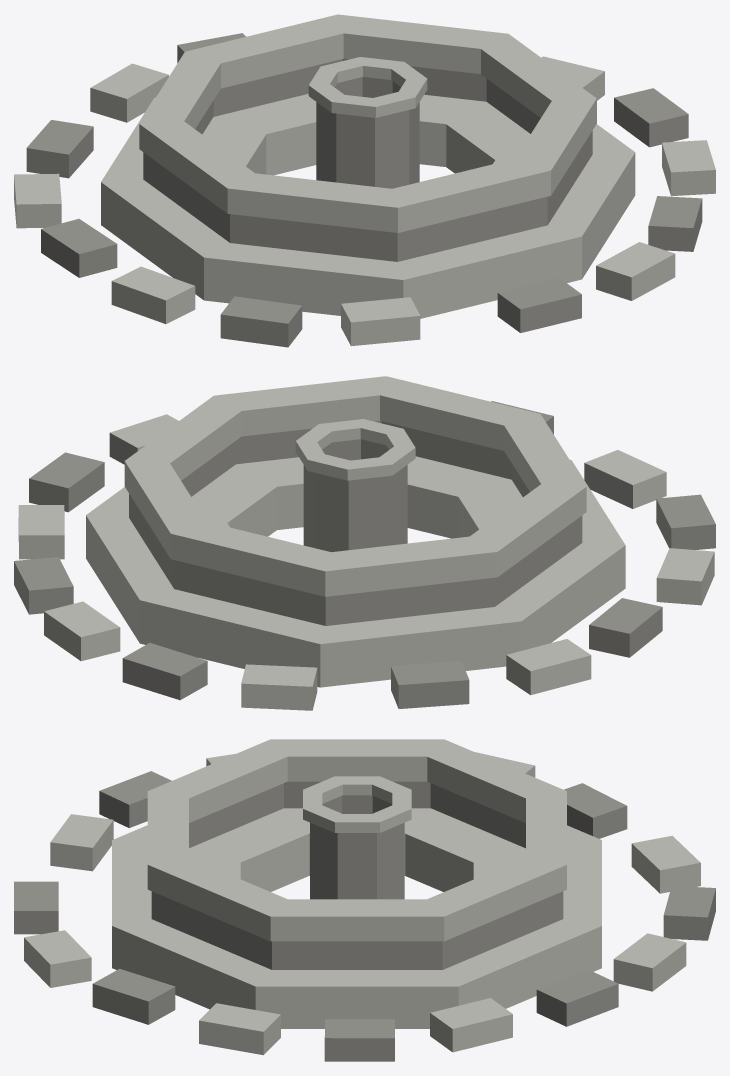
File: fountain.fbx
The picture shows the model from 3 angles, top to bottom: view 1: azimuth 30°, elevation 25°; view 2: azimuth 150°, elevation 25°; view 3: azimuth 270°, elevation 25°; orthographic projection. The views are drawn at different scales.
Parts seen in each view (by area): view 1: polySurface172; view 2: polySurface172; view 3: polySurface172.
Boxes of the visible parts, left/top/right/bottom form: polySurface172: left=14, top=14, right=715, bottom=347; polySurface172: left=14, top=376, right=715, bottom=710; polySurface172: left=14, top=739, right=715, bottom=1061.
Size of the model in its own units: 105 by 24.09 by 107.
Materials: 1 (1 with a texture image).
